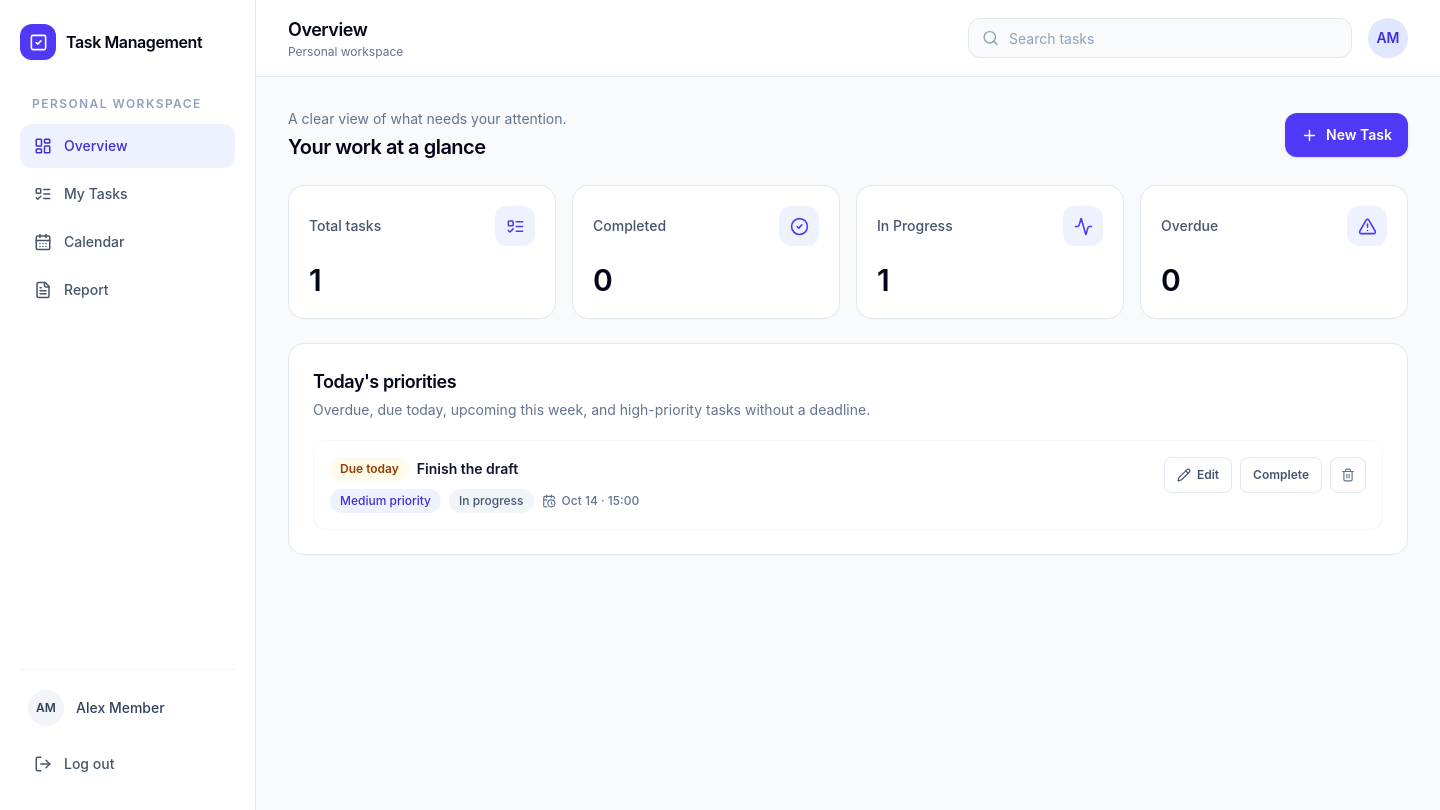
Scenario: dashboard overview › updates summary and priorities from the confirmed completion response
The width and height of the screenshot is (1440, 810).
Click the button with aria-label "Mark Finish the draft complete". click: (1281, 475)
box: [1240,457,1322,493]
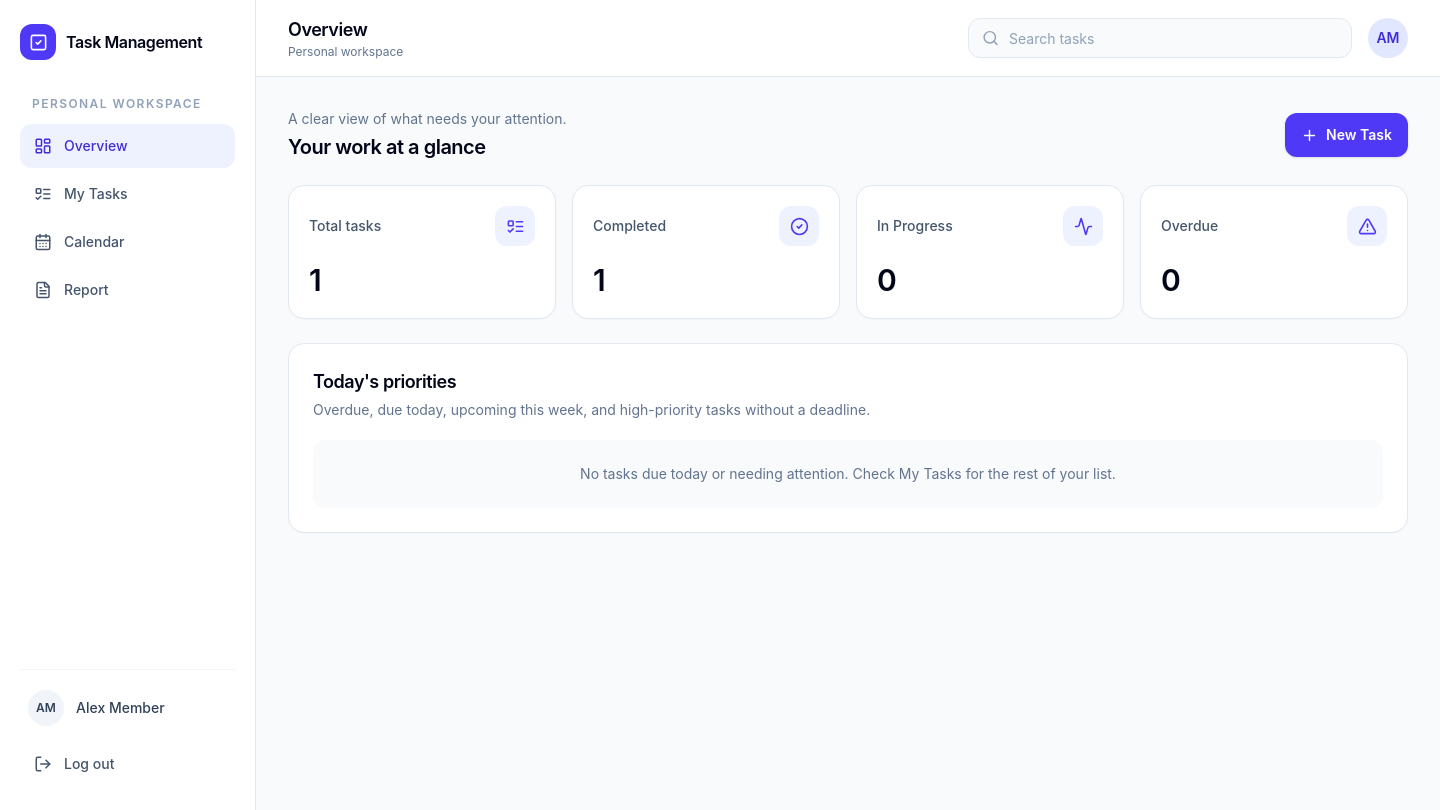
Expected: the text "1" below "Completed" is shown, [593,262,605,298]
Expected: the text "0" below "In Progress" is shown, [877,262,896,298]
Expected: the heading "Finish the draft" is gone
